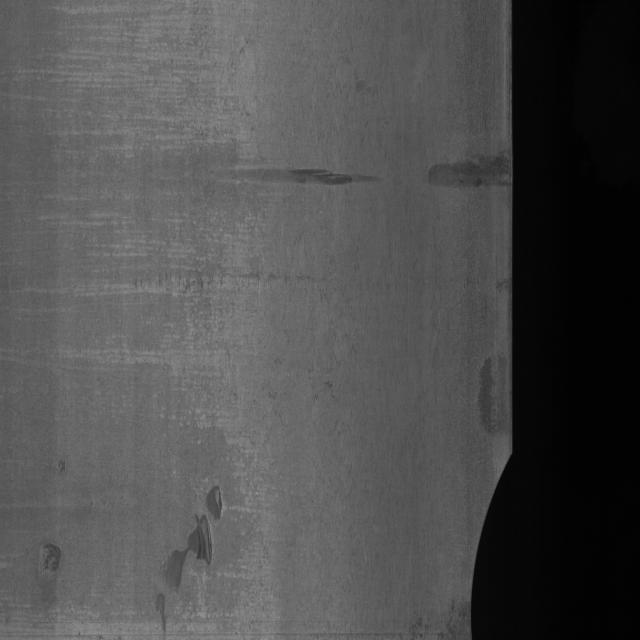silk_spot: (458, 446, 529, 639)
